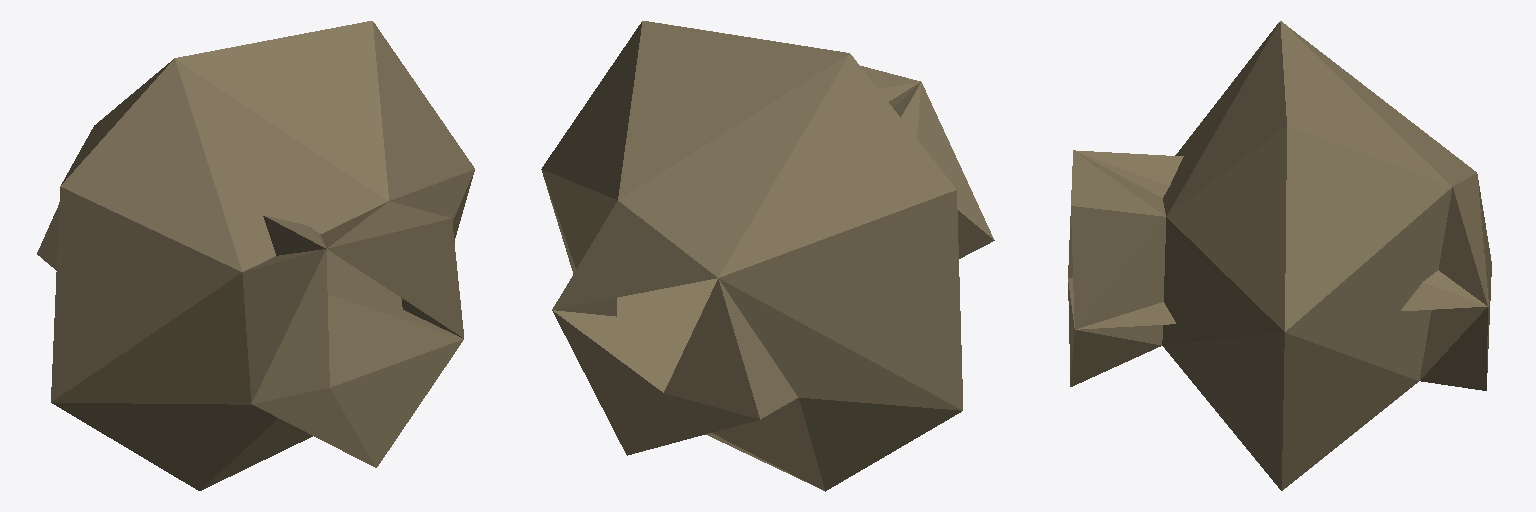
URDF robot description (Vase_W_Hole):
<?xml version="1.0"?>
<robot name="Vase_W_Hole">
  <link name="base_link">
    <visual>
      <origin xyz="0 0 0" rpy="0 0 0" />
      <geometry>
        <mesh filename="Vase_W_Hole_decimated.obj" />      
      </geometry>
      <material name="tan">
        <color rgba="0.55 0.5 0.4 1" />
      </material>
    </visual>
    <collision>
      <origin xyz="0 0 0" rpy="0 0 0" />
      <geometry>
        <mesh filename="Vase_W_Hole_decimated.obj" />
      </geometry>
    </collision>
  </link>
</robot>

--- What the picture shows (computed from the rendered views, not written in the file) ---
Views: 3 orthographic renders of the robot side by side, from view 1: azimuth 30°, elevation 25°; view 2: azimuth 150°, elevation 25°; view 3: azimuth 270°, elevation 25°.
Robot: Vase_W_Hole — 1 links, 0 joints (none); root link base_link; default pose: all joints at 0.
Links seen in each view (by area): view 1: base_link; view 2: base_link; view 3: base_link.
Boxes of the visible links, <box> form: base_link: <box>37,21,474,490</box>; base_link: <box>541,21,994,491</box>; base_link: <box>1068,21,1491,490</box>.
Size in the robot's own frame: 40.26 by 37.67 by 40.16 metres.
1 mesh visuals loaded from 1 distinct referenced files (1 OBJ).
